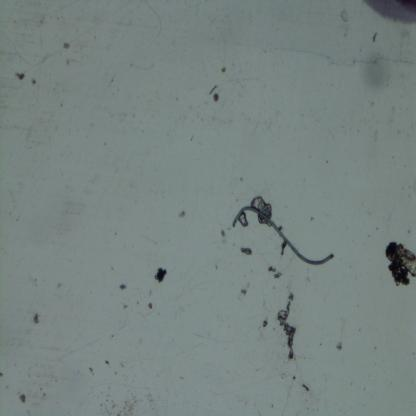Air bubble: (252, 199, 272, 217), (238, 210, 248, 228), (241, 248, 253, 258)
Background material: (382, 241, 416, 291), (101, 388, 157, 415), (277, 293, 297, 362), (362, 52, 392, 96), (268, 264, 283, 280), (154, 267, 168, 283), (280, 240, 288, 258), (31, 311, 40, 326), (18, 392, 27, 404), (209, 85, 218, 96), (30, 76, 38, 88), (15, 72, 25, 81), (178, 208, 186, 219), (241, 286, 248, 298), (213, 92, 220, 103), (302, 384, 311, 392), (372, 32, 378, 43), (220, 66, 228, 74), (63, 42, 71, 50), (147, 302, 154, 311), (119, 283, 128, 290), (335, 343, 344, 350), (221, 227, 226, 239), (104, 358, 110, 367), (89, 367, 95, 375), (263, 318, 267, 328)
Microfibre: (233, 206, 334, 266)
Pen: (362, 0, 415, 33)
